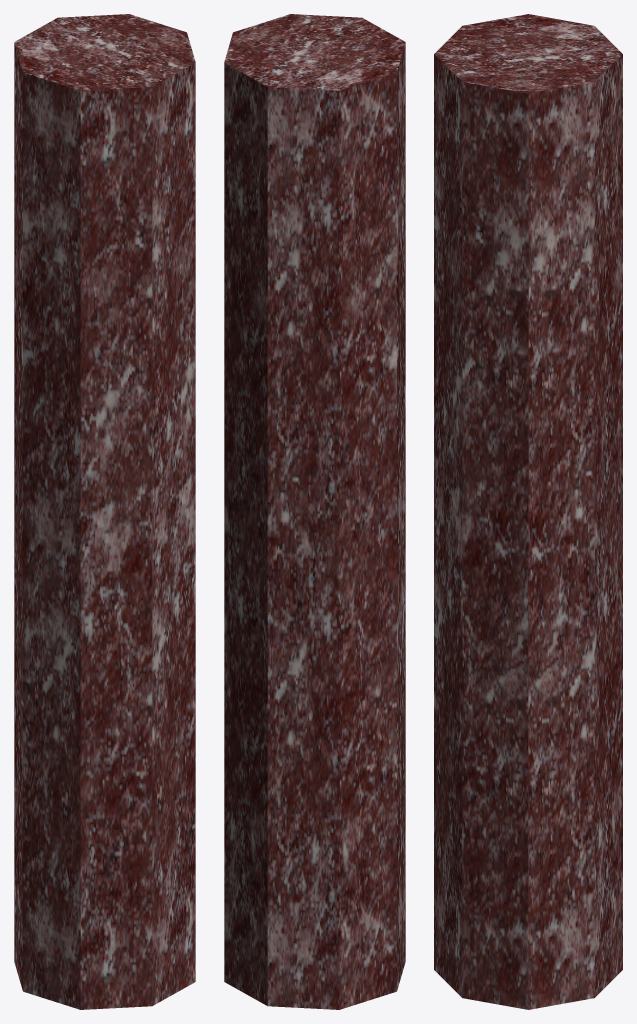
Rendered from pillarbody01.fbx.
The picture shows the model from 3 angles, left to right: view 1: azimuth 30°, elevation 25°; view 2: azimuth 150°, elevation 25°; view 3: azimuth 270°, elevation 25°; orthographic projection.
Visible parts, largest first — view 1: Cube; view 2: Cube; view 3: Cube.
Part boxes in pixels (bbox=[...]): Cube: bbox=[14, 14, 195, 1009]; Cube: bbox=[224, 14, 405, 1009]; Cube: bbox=[434, 14, 622, 1009].
Size of the model in its own units: 56 by 300 by 56.
1 material, 1 textured.
